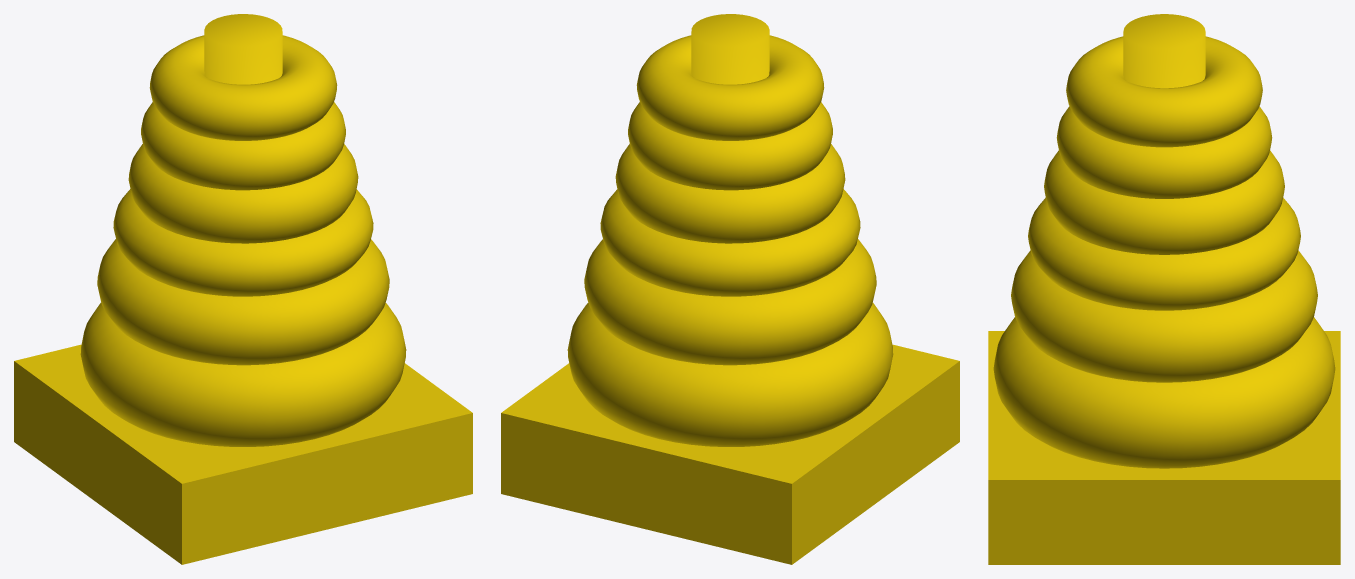
Rendered from jouet cercle gold.fbx.
3 views of the same model, side by side, from view 1: azimuth 30°, elevation 25°; view 2: azimuth 150°, elevation 25°; view 3: azimuth 270°, elevation 25° (orthographic). The views are drawn at different scales.
Visible parts, largest first — view 1: Cube.001; view 2: Cube.001; view 3: Cube.001.
Part boxes in pixels (<box>): Cube.001: <box>14,14,472,564</box>; Cube.001: <box>501,14,959,564</box>; Cube.001: <box>988,14,1340,564</box>.
Size of the model in its own units: 245 by 353 by 245.
